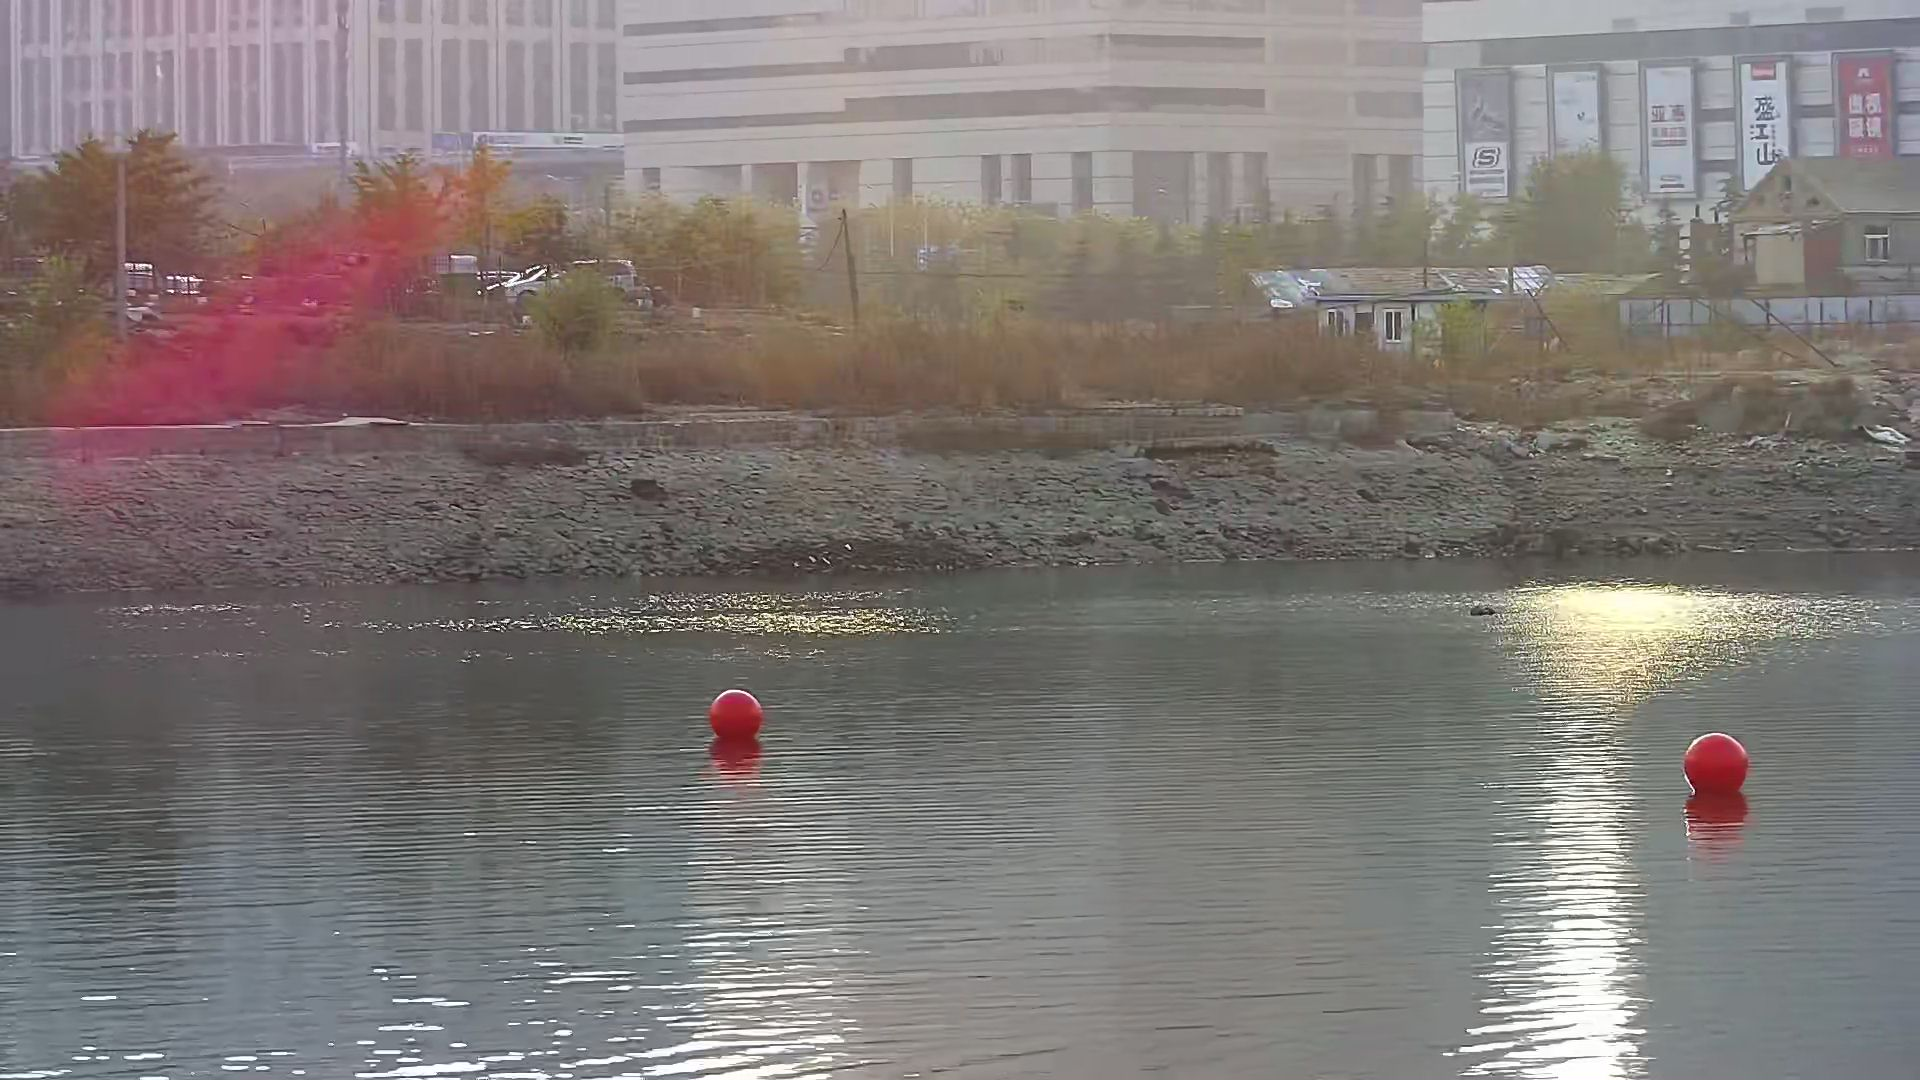ball: (1680, 727, 1753, 800), (707, 688, 767, 746)
